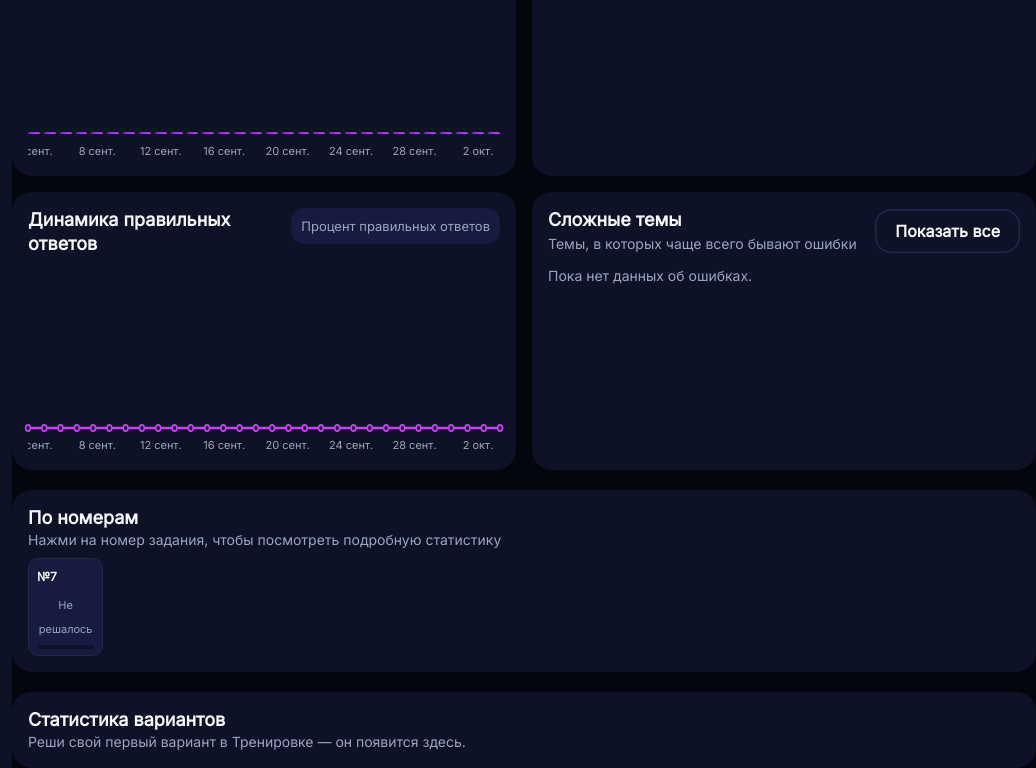
Test: StatisticsDesktop — По номерам detail (Statistics 2.0) › shows an honest empty state when the selected number has no attempts yet
(page scrolled)
Click the text "№7": [47, 577] box [37, 565, 57, 589]
(page scrolled)
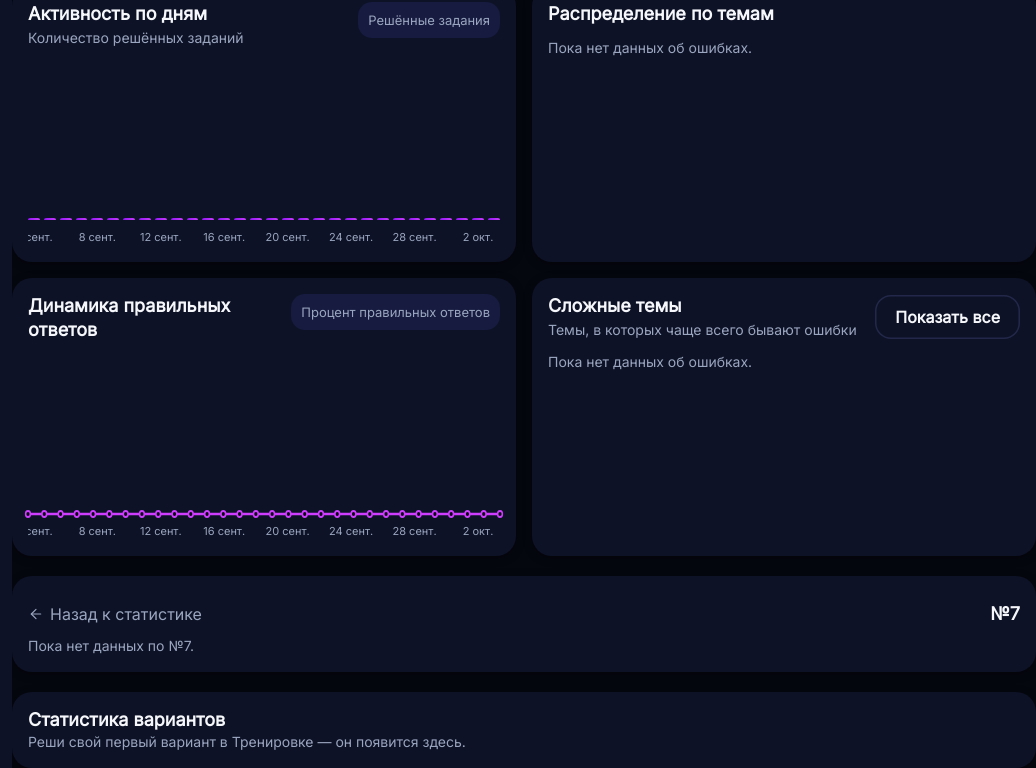
Check: the text "Пока нет данных по №7." is shown, box [28, 637, 194, 654]
